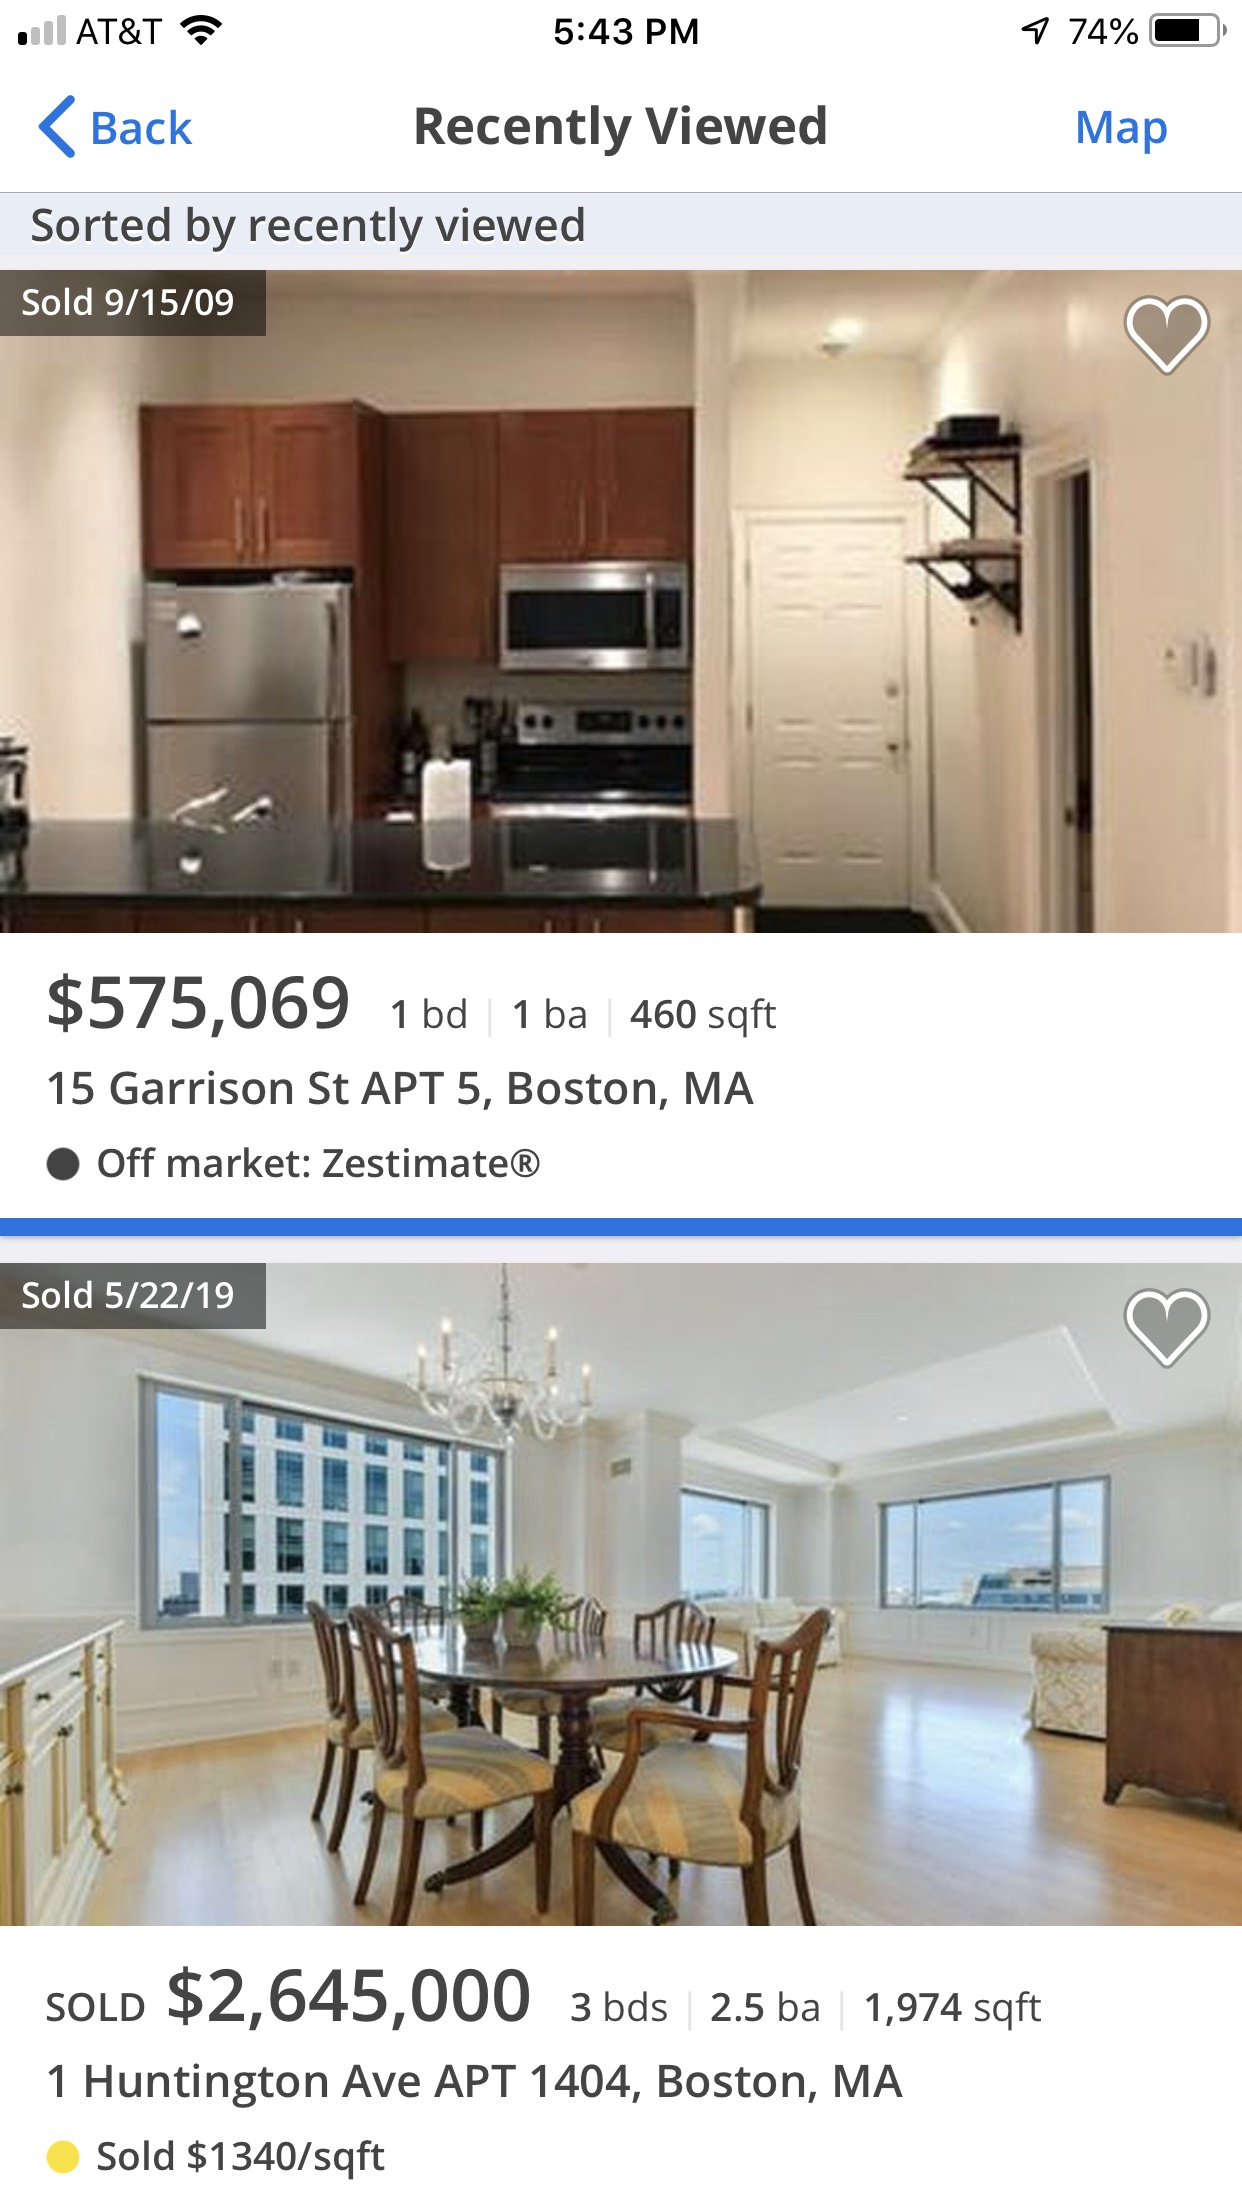Icon: (1124, 296, 1212, 378), (1124, 1287, 1212, 1369), (39, 96, 77, 161)
Image: (2, 271, 1242, 934), (2, 1263, 1242, 1926)
Text: (49, 2062, 904, 2109), (49, 1069, 755, 1112), (32, 206, 585, 253), (168, 1965, 531, 2031), (417, 105, 826, 158), (49, 972, 349, 1039), (47, 1146, 541, 1181), (99, 2138, 387, 2181), (864, 1991, 1042, 2032), (23, 287, 235, 318), (23, 1278, 235, 1310), (629, 996, 776, 1039), (1078, 111, 1168, 156), (93, 109, 193, 146), (711, 1990, 820, 2021), (572, 1990, 667, 2023), (47, 1991, 146, 2021), (391, 996, 469, 1030), (513, 998, 587, 1030)
UpperTaskBar: (2, 2, 1242, 49)
